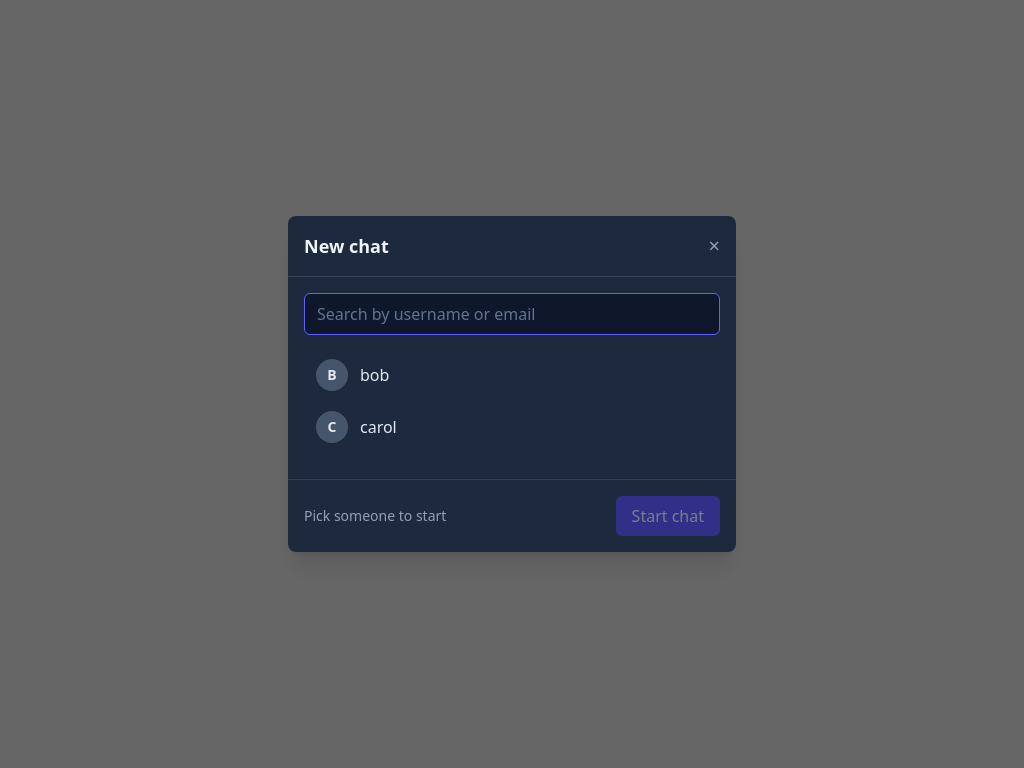
NewChatModal › shows a failure in the modal and stays open
Step 1. Click the text "bob" → (375, 375), box [360,363,389,387]
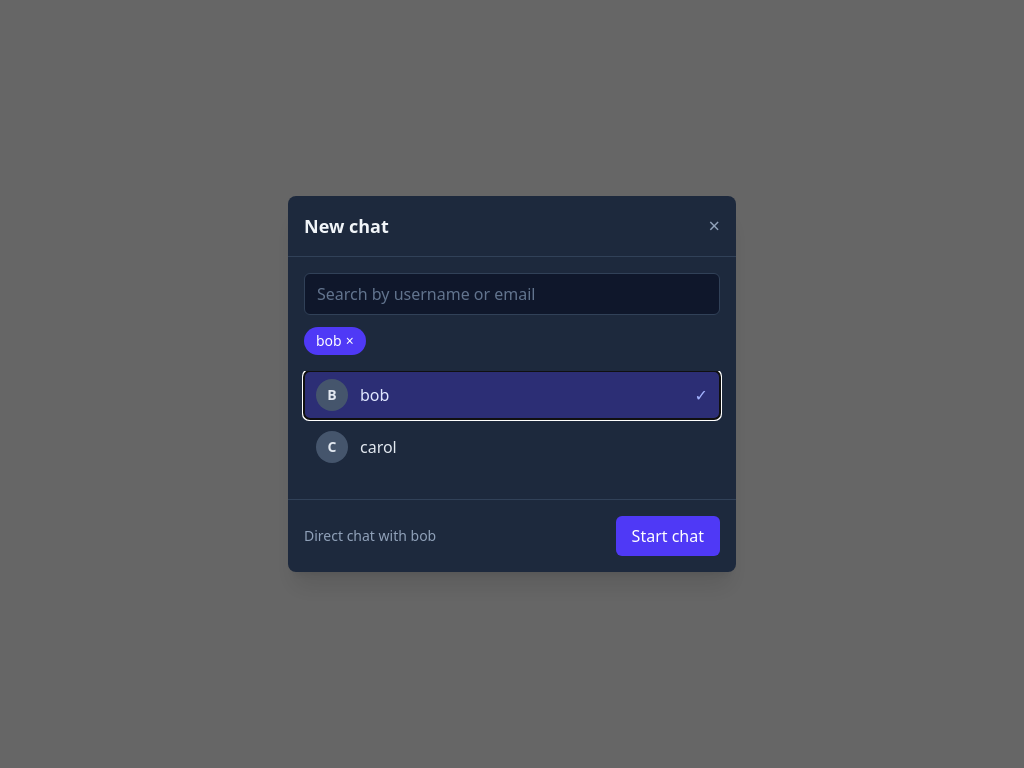
Step 2. Click the button "Start chat" → (668, 536), box [616,516,720,556]
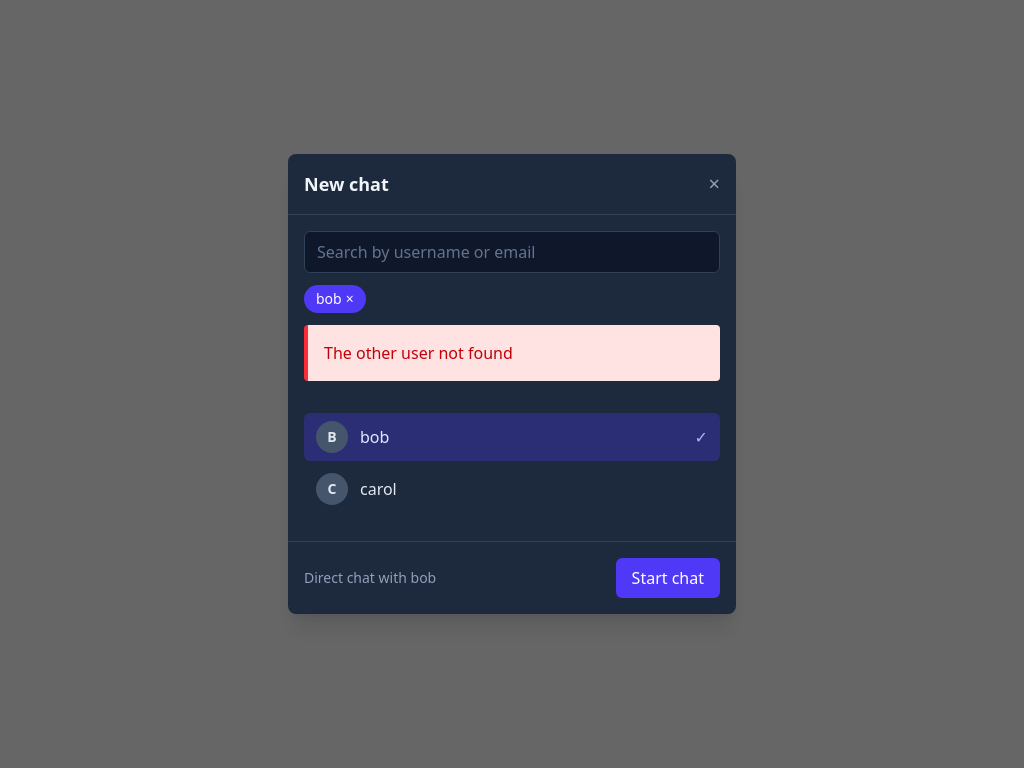
Expected: the button named "remove bob" is shown, [304,285,366,313]
Expected: the text "The other user not found" is shown, [324,342,513,364]
